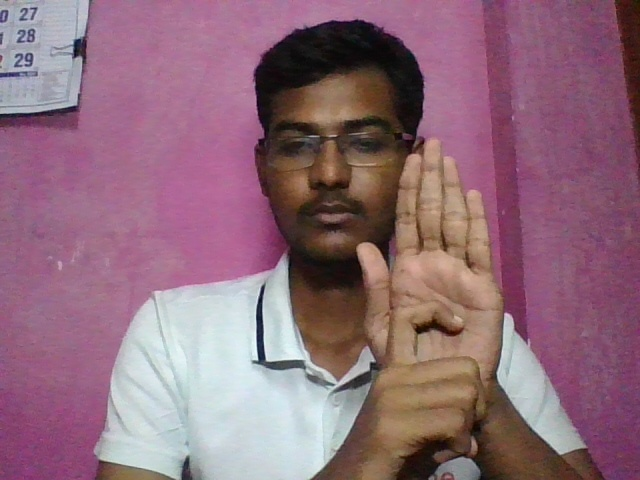Hello: (338, 126, 514, 480)
